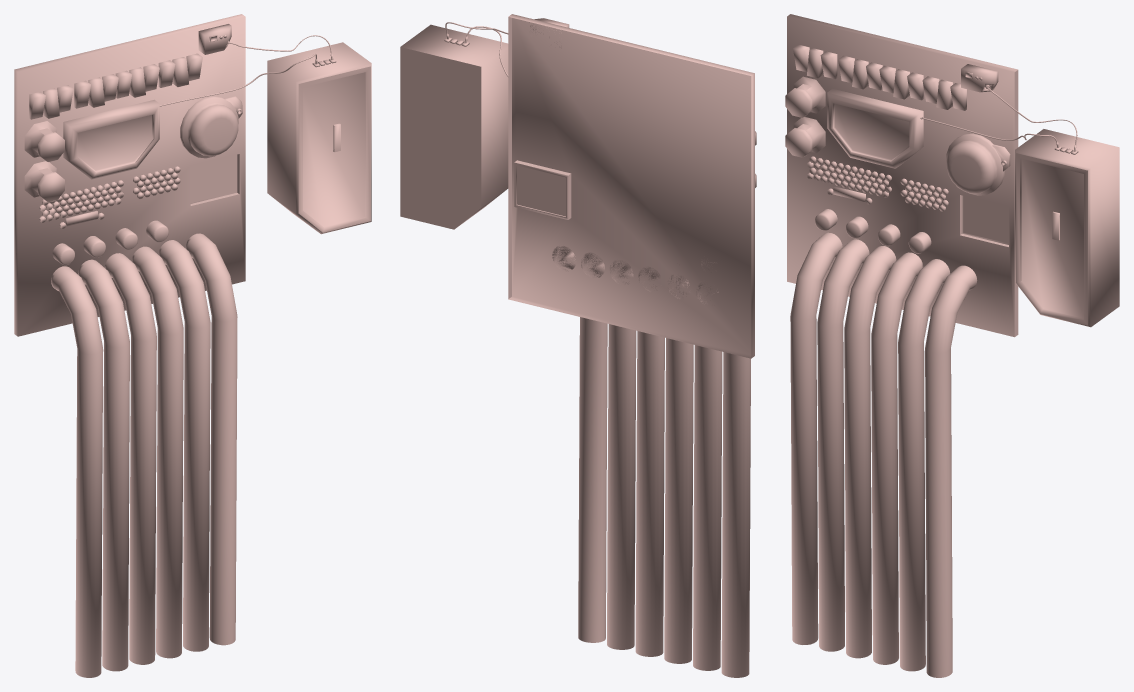
Rendered from MaquinaPanelok.fbx.
The picture shows the model from 3 angles, left to right: view 1: azimuth 30°, elevation 25°; view 2: azimuth 150°, elevation 25°; view 3: azimuth 330°, elevation 25°; orthographic projection. The views are drawn at different scales.
Parts seen in each view (by area): view 1: Tubos, CuadradoPrincipal, Puerta, ArmarioLateral, Pantalla, Teclado, RuedaGiratoria, MaquinaPanelFondo, TubosCables, HexagonoAbajo, Hexagonoarriba, Botones (+3 smaller); view 2: CuadradoPrincipal, Tubos, ArmarioLateral, MaquinaPanelFondo, TubosCables; view 3: Tubos, CuadradoPrincipal, Puerta, ArmarioLateral, Pantalla, Teclado, RuedaGiratoria, MaquinaPanelFondo, TubosCables, HexagonoAbajo, Hexagonoarriba, Botones.003 (+3 smaller).
Boxes of the visible parts, x1=… form: Tubos: x1=51, y1=233, x2=237, y2=677; CuadradoPrincipal: x1=14, y1=14, x2=245, y2=336; Puerta: x1=298, y1=66, x2=370, y2=232; ArmarioLateral: x1=267, y1=42, x2=371, y2=234; Pantalla: x1=63, y1=99, x2=159, y2=179; Teclado: x1=39, y1=166, x2=180, y2=228; RuedaGiratoria: x1=180, y1=96, x2=242, y2=158; MaquinaPanelFondo: x1=190, y1=154, x2=239, y2=205; TubosCables: x1=159, y1=24, x2=336, y2=106; HexagonoAbajo: x1=24, y1=121, x2=64, y2=161; Hexagonoarriba: x1=24, y1=161, x2=64, y2=201; Botones: x1=74, y1=74, x2=118, y2=108; CuadradoPrincipal: x1=508, y1=14, x2=754, y2=358; Tubos: x1=552, y1=246, x2=750, y2=677; ArmarioLateral: x1=400, y1=24, x2=508, y2=229; MaquinaPanelFondo: x1=514, y1=160, x2=571, y2=219; TubosCables: x1=444, y1=18, x2=569, y2=76; Tubos: x1=790, y1=232, x2=977, y2=677; CuadradoPrincipal: x1=787, y1=14, x2=1018, y2=337; Puerta: x1=1016, y1=153, x2=1087, y2=325; ArmarioLateral: x1=1015, y1=129, x2=1119, y2=327; Pantalla: x1=827, y1=88, x2=923, y2=168; Teclado: x1=807, y1=156, x2=948, y2=211; RuedaGiratoria: x1=946, y1=133, x2=1010, y2=195; MaquinaPanelFondo: x1=960, y1=195, x2=1008, y2=246; TubosCables: x1=920, y1=64, x2=1078, y2=154; HexagonoAbajo: x1=785, y1=76, x2=825, y2=117; Hexagonoarriba: x1=785, y1=117, x2=825, y2=157; Botones.003: x1=793, y1=44, x2=837, y2=79.
Size of the model in its own units: 131 by 225 by 26.16.
